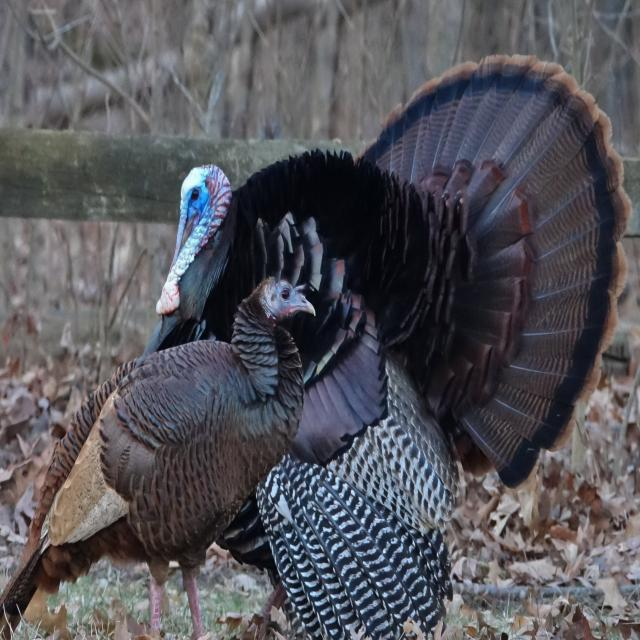Turkey: (163, 46, 621, 630), (25, 252, 319, 627)
